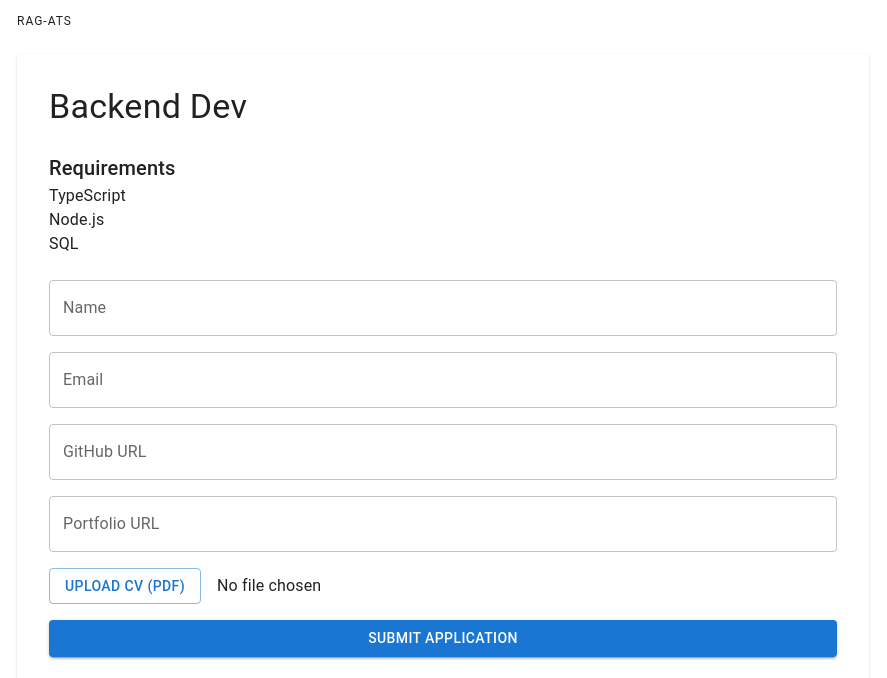
Test: ApplicationForm › shows validation errors and sends no request on an empty submit
The image size is (887, 678).
Expected: the heading "Backend Dev" is shown, 49,86 -> 247,126
Click the button "Submit application" at (443, 639), box 49,620 -> 837,657
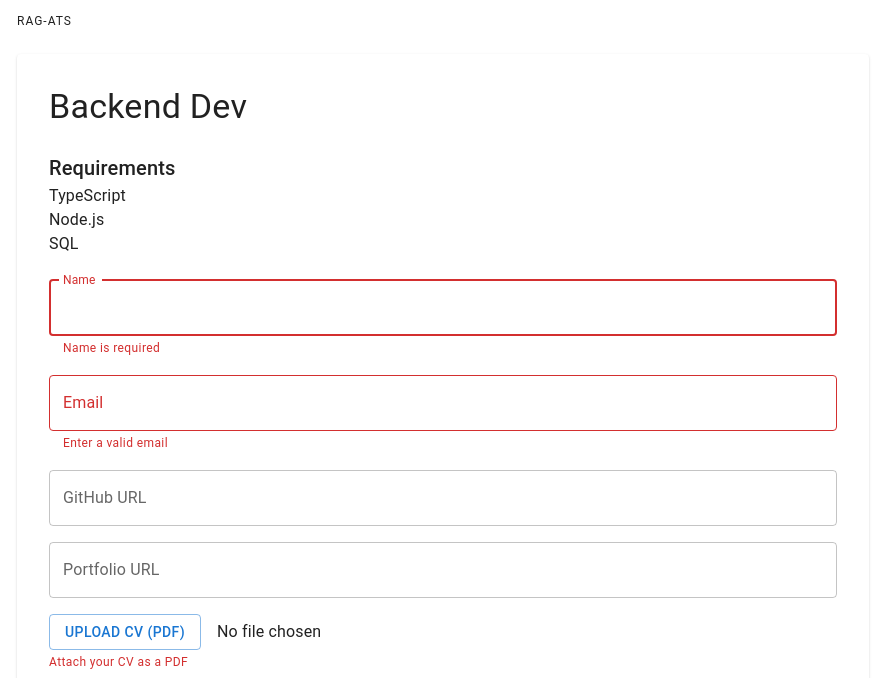
Now the text "Name is required" is shown, box 63,341 -> 160,355
Now the text "Enter a valid email" is shown, box 63,436 -> 168,450
Now the text "Attach your CV as a PDF" is shown, box 49,655 -> 188,669
